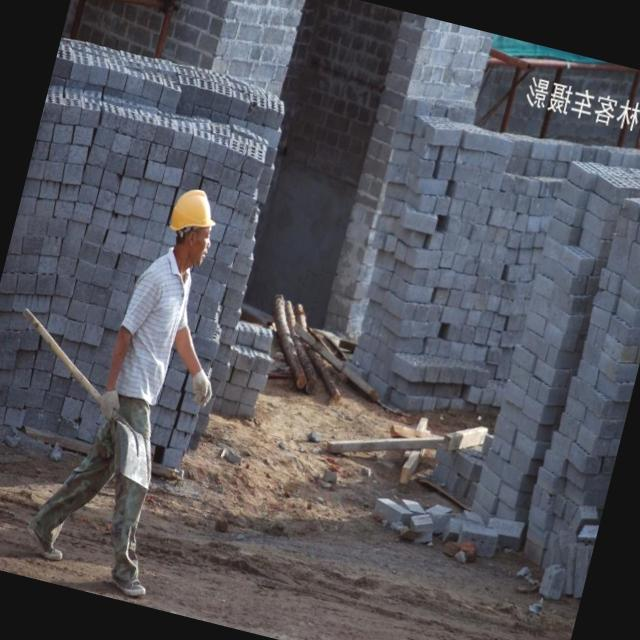helmet: (156, 182, 223, 244)
vest: (95, 253, 201, 427)
